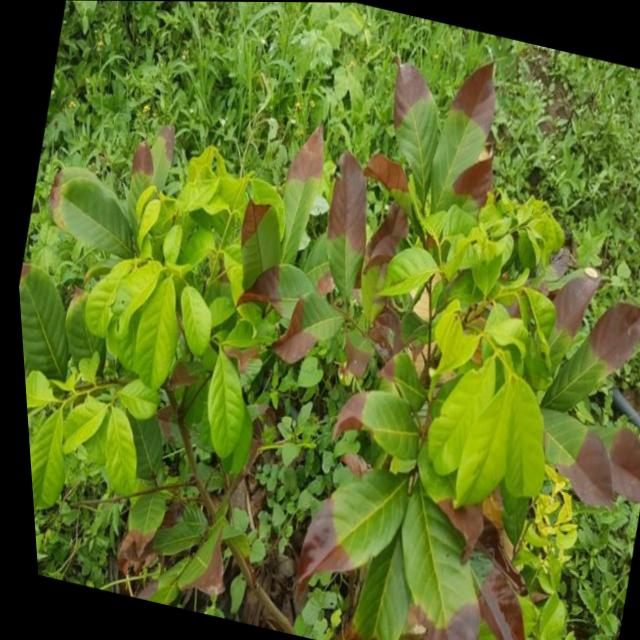Leaf Blight: (470, 228, 640, 551), (190, 206, 355, 406), (268, 369, 395, 602), (253, 102, 412, 282), (372, 13, 524, 163), (314, 557, 570, 640), (100, 118, 216, 203)
